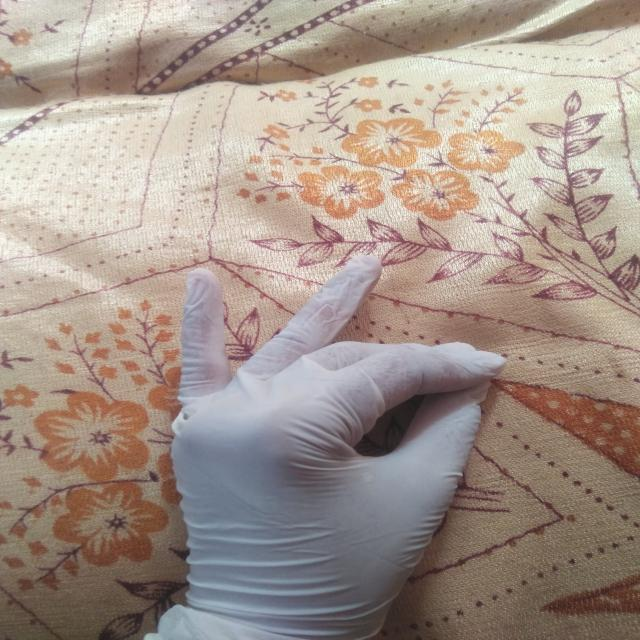glove: (162, 247, 518, 634)
